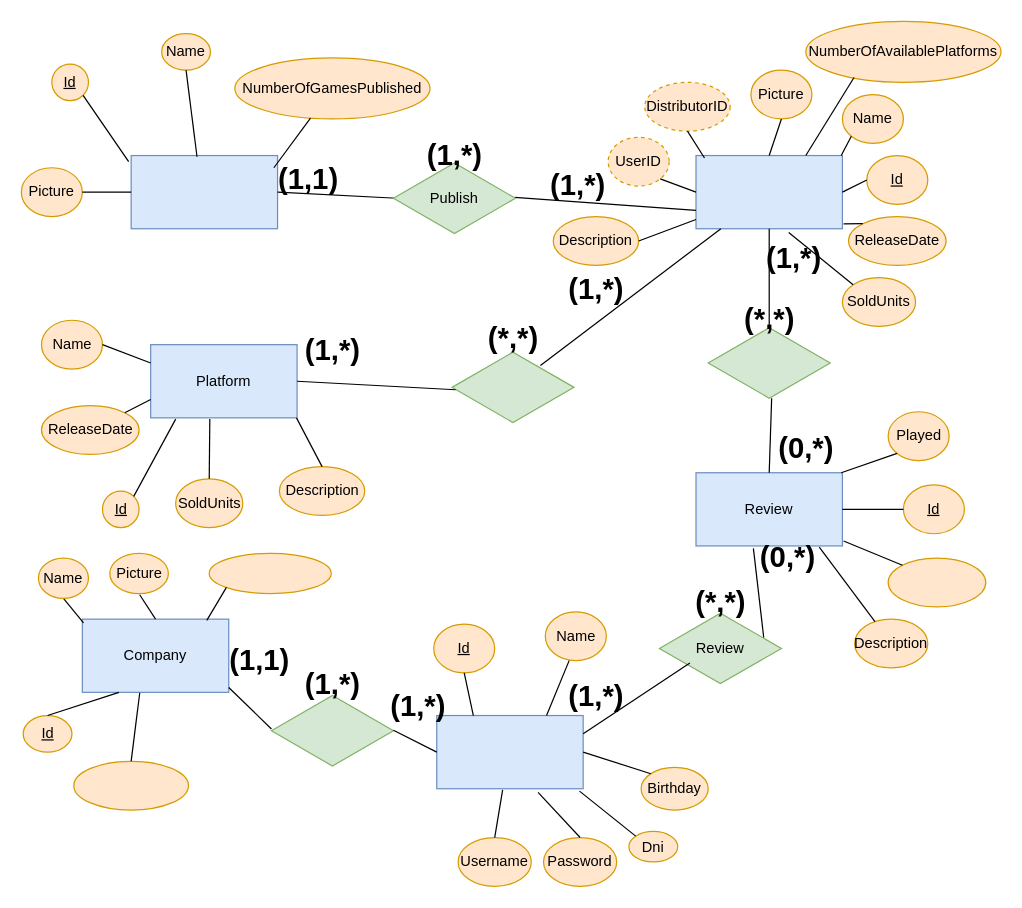
Image size: 1022x908. Some labels were removed from this diagram. Here are the shapes that lost their labels. From the top down, the centre of each, then its label:
At [204,191]: "Distributor".
At [768,191]: "Videogame".
At [768,362]: "Is reviewed".
At [512,387]: "It belongs".
At [269,573]: "NumberOfUsers".
At [936,582]: "Mark".
At [331,730]: "has".
At [509,751]: "User".
At [130,785]: "FoundationDate".
